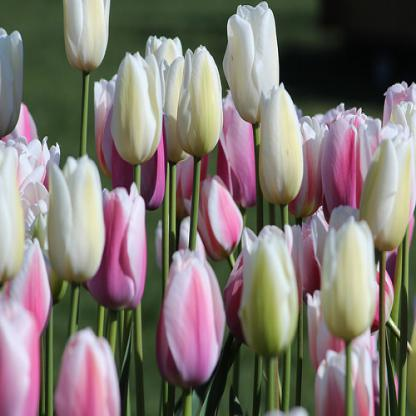TULIP: (22, 26, 391, 401)
